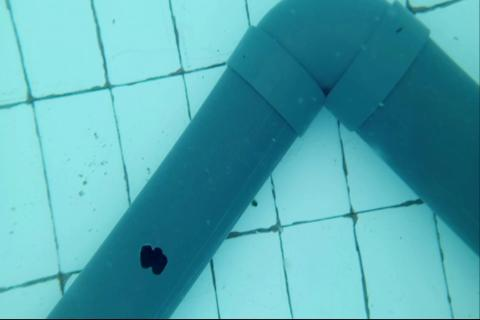kebocoran: (139, 244, 169, 275)
